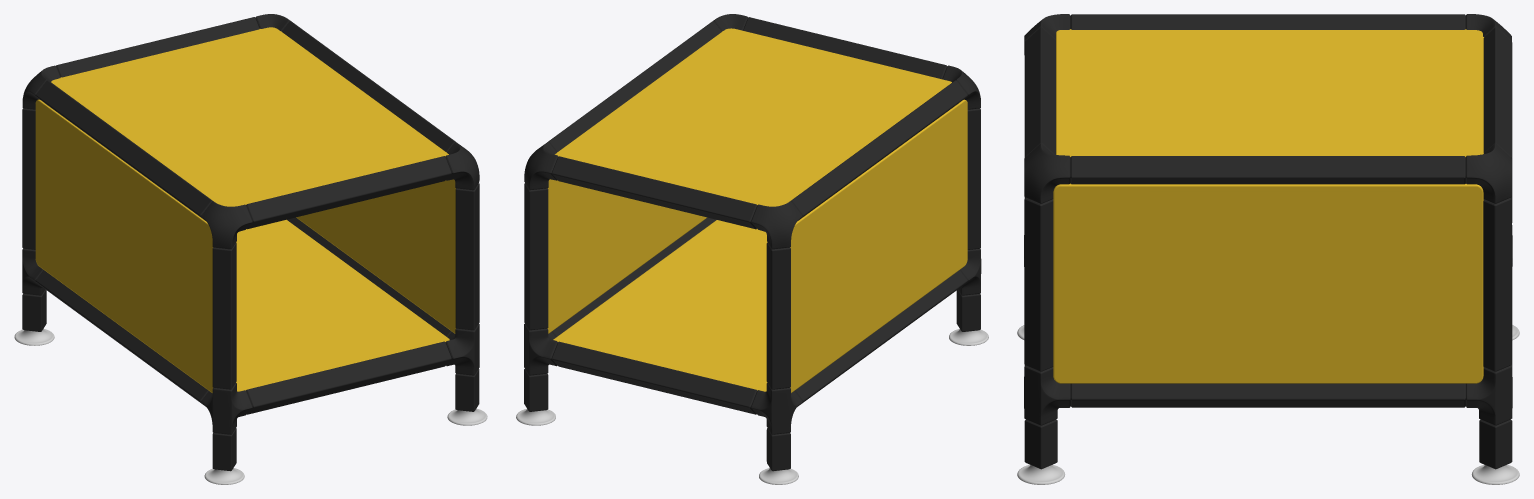
3 renders of one model, left to right at view 1: azimuth 30°, elevation 25°; view 2: azimuth 150°, elevation 25°; view 3: azimuth 270°, elevation 25°, orthographic. The views are drawn at different scales.
Visible parts, largest first — view 1: 229x329x154; view 2: 229x329x154; view 3: 229x329x154.
Boxes of the visible parts, x1=… form: 229x329x154: x1=14, y1=14, x2=487, y2=484; 229x329x154: x1=516, y1=14, x2=988, y2=484; 229x329x154: x1=1017, y1=14, x2=1519, y2=484.
Size of the model in its own units: 0.3189 by 0.2933 by 0.4182.
